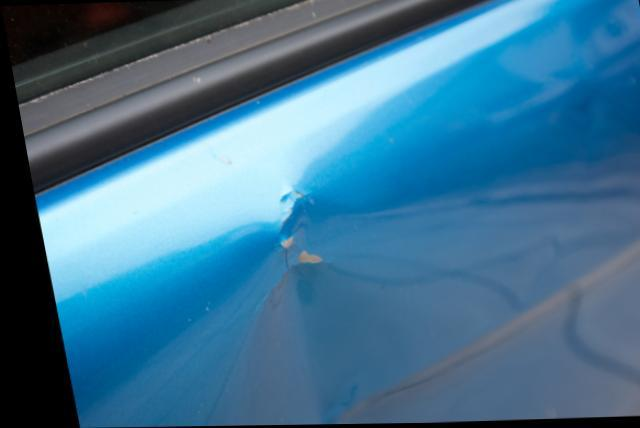dent: (231, 191, 394, 426)
